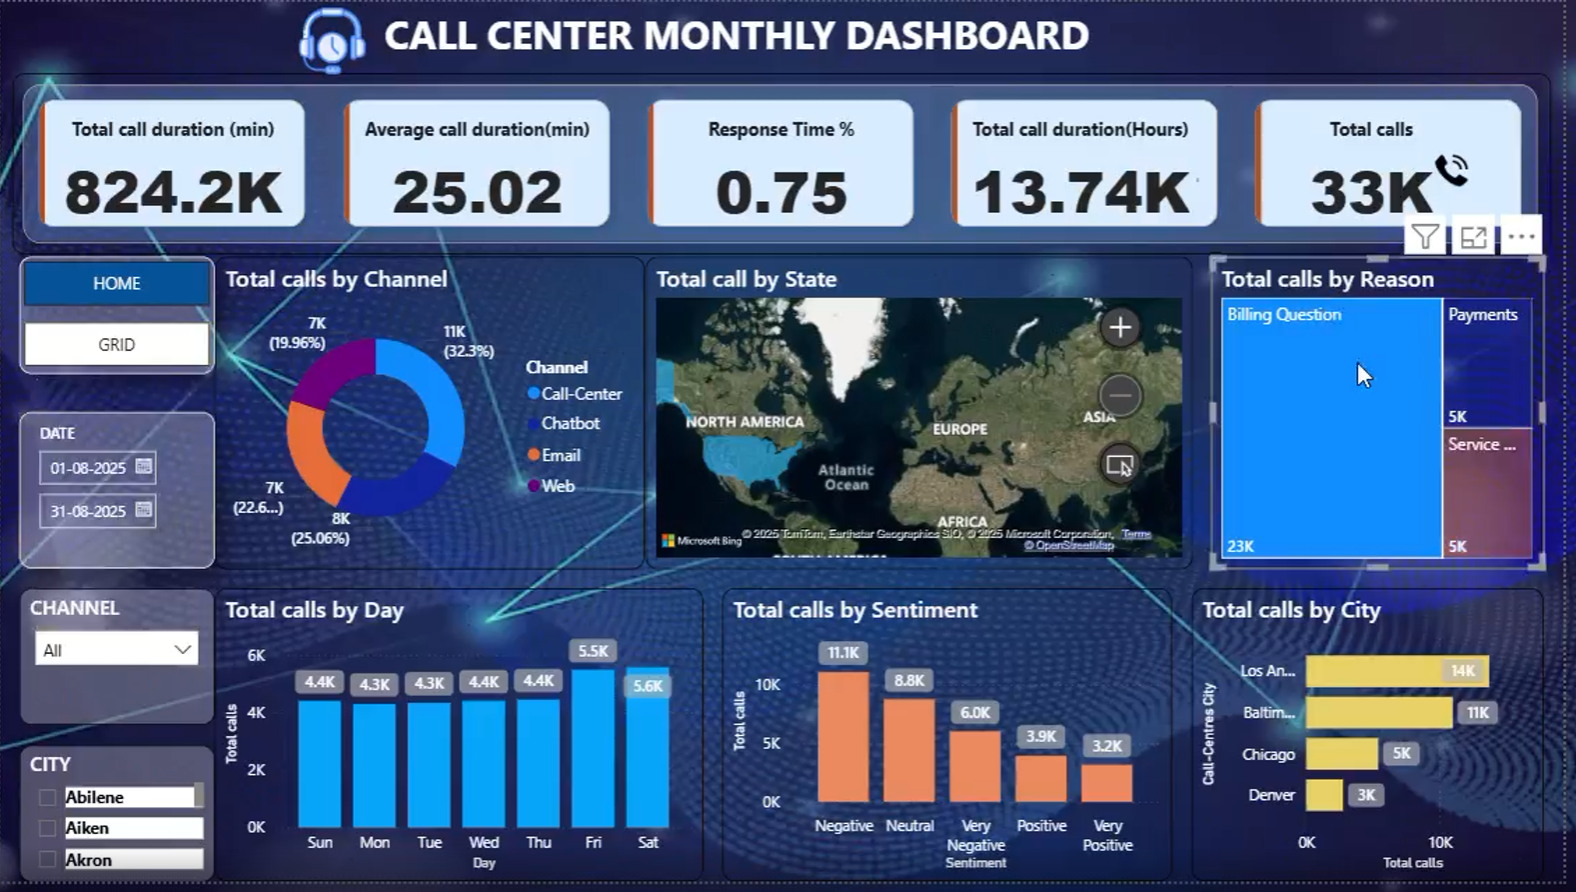

This screenshot's page, from the dashboard's own definition file:
{"tool":"powerbi","page":{"name":"HOME","canvas":[1280,720],"ordinal":0},"visuals":[{"type":"cardVisual","fields":{"Data":["Call Center_Call Center.Total call duration (min)","Call Center_Call Center.Average call duration(min)","Call Center_Call Center.Response Time %","Call Center_Call Center.Total call duration(Hours)","Call Center_Call Center.Total calls"]},"box":[9.6,59,1259.7,148.2],"z":0},{"type":"textbox","box":[16,0,1184,64],"z":1000},{"type":"columnChart","fields":{"Category":["Date Table.Day"],"Y":["Call Center_Call Center.Total calls"]},"box":[176,480,400,240],"z":2000},{"type":"filledMap","title":"Total call by State","fields":{"Category":["Call Center_Call Center.State"]},"box":[528,208,448,256],"z":3000},{"type":"treemap","fields":{"Group":["Call Center_Call Center.Reason"],"Values":["Call Center_Call Center.Total calls"]},"box":[992,208,272,256],"z":4000},{"type":"donutChart","fields":{"Category":["Call Center_Call Center.Channel"],"Y":["Call Center_Call Center.Total calls"]},"box":[176,208,352,256],"z":5000},{"type":"columnChart","fields":{"Category":["Call Center_Call Center.Sentiment"],"Y":["Call Center_Call Center.Total calls"]},"box":[592,480,368,240],"z":6000},{"type":"barChart","title":"Total calls by City","fields":{"Category":["Call Center_Call Center.Call-Centres City"],"Y":["Call Center_Call Center.Total calls"]},"box":[976,480,288,240],"z":7000},{"type":"slicer","fields":{"Values":["Date Table.Date"]},"box":[16,336,160,128],"z":8000},{"type":"slicer","title":"CHANNEL","fields":{"Values":["Call Center_Call Center.Channel"]},"box":[16,480,160,112],"z":9000},{"type":"slicer","title":"CITY","fields":{"Values":["Call Center_Call Center.City"]},"box":[16,608,160,112],"z":10000},{"type":"pageNavigator","box":[16,208,160,96],"z":10001},{"type":"image","box":[240,0,64,64],"z":10002}]}

Visuals, with their boxes in screenshot pixels (x1, y1, x2, y2), scaled from the page's 1280x720 canvas onto the 1576x892 screenshot:
cardVisual - Call Center_Call Center.Total call duration (min) x Call Center_Call Center.Average call duration(min): 12 73 1563 257
textbox: 20 0 1478 79
columnChart - Date Table.Day x Call Center_Call Center.Total calls: 217 595 709 891
"Total call by State" filledMap: 650 258 1202 575
treemap - Call Center_Call Center.Reason x Call Center_Call Center.Total calls: 1221 258 1556 575
donutChart - Call Center_Call Center.Channel x Call Center_Call Center.Total calls: 217 258 650 575
columnChart - Call Center_Call Center.Sentiment x Call Center_Call Center.Total calls: 729 595 1182 891
"Total calls by City" barChart: 1202 595 1556 891
slicer - Date Table.Date: 20 416 217 575
"CHANNEL" slicer: 20 595 217 733
"CITY" slicer: 20 753 217 891
pageNavigator: 20 258 217 377
image: 296 0 374 79
